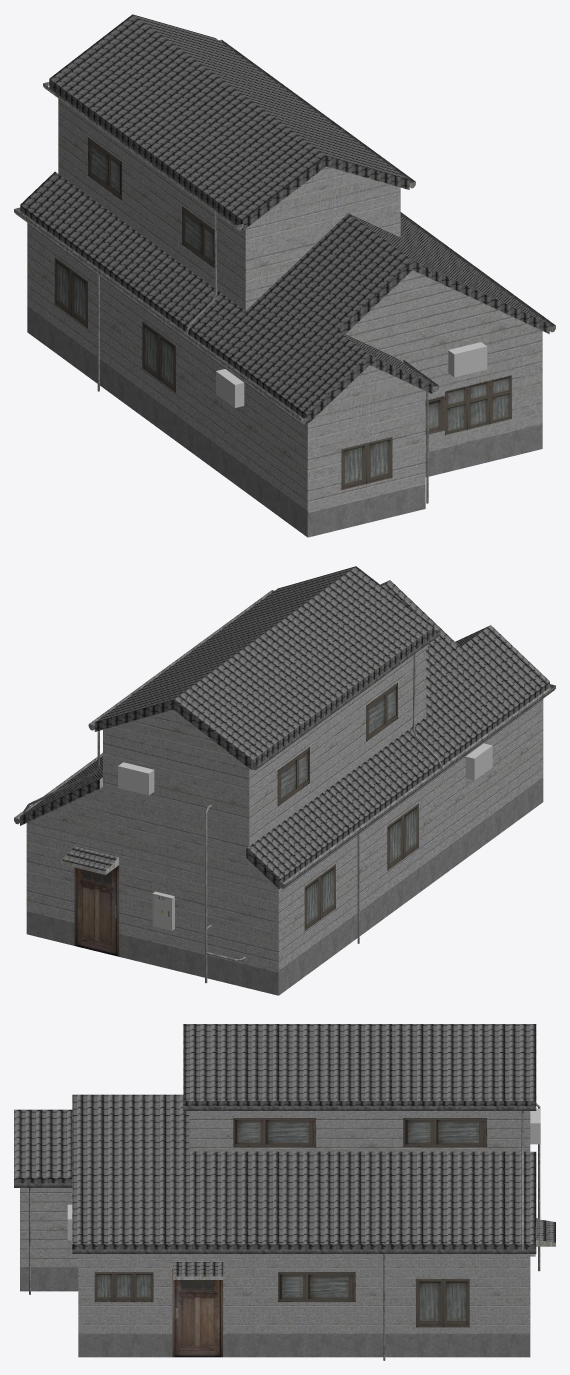
Rendered from PSX Japanese House.fbx.
3 renders of one model, top to bottom at view 1: azimuth 30°, elevation 25°; view 2: azimuth 150°, elevation 25°; view 3: azimuth 270°, elevation 25°, orthographic. The views are drawn at different scales.
Visible parts, largest first — view 1: PSX Japanese House, AC; view 2: PSX Japanese House, AC; view 3: PSX Japanese House, AC.
Part boxes in pixels (x1,y1,x2,y2): PSX Japanese House: (14,14,555,537); AC: (216,342,487,407); PSX Japanese House: (14,566,555,995); AC: (118,743,492,795); PSX Japanese House: (14,1024,555,1360); AC: (67,1108,540,1240).
Bounding box in the file's own units: 531 × 486 × 908.
